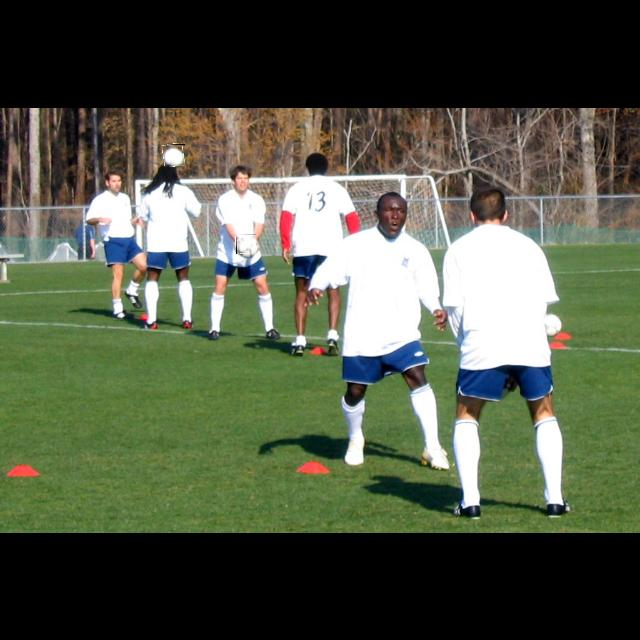Football: (163, 144, 185, 166), (236, 234, 256, 254)
